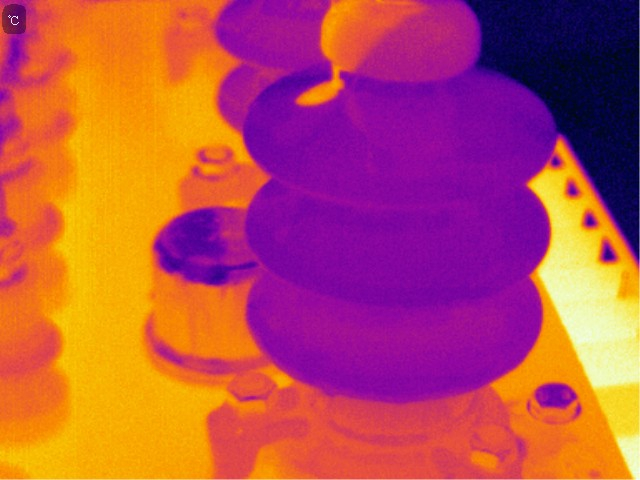Oil: (290, 1, 430, 114), (320, 1, 481, 78)
